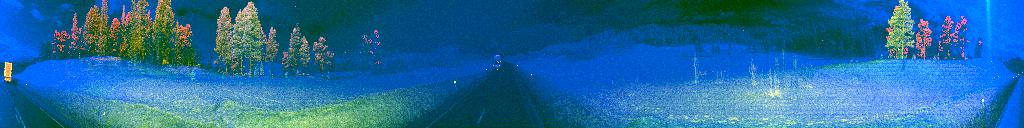pole: (979, 81, 988, 115), (99, 100, 107, 122)
